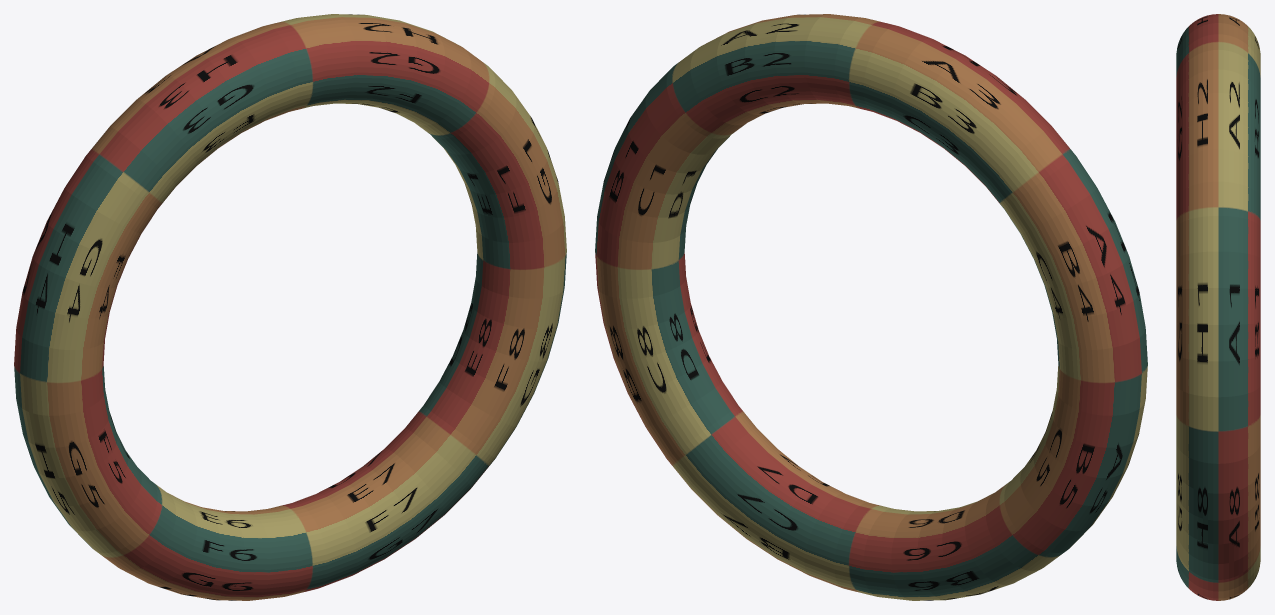
The model's file is texture_torus_R22_r8.glb.
The picture shows the model from 3 angles, left to right: view 1: azimuth 30°, elevation 25°; view 2: azimuth 150°, elevation 25°; view 3: azimuth 270°, elevation 25°; orthographic projection. The views are drawn at different scales.
Visible parts, largest first — view 1: world; view 2: world; view 3: world.
Boxes of the visible parts, x1=… form: world: x1=14, y1=14, x2=566, y2=600; world: x1=595, y1=14, x2=1147, y2=600; world: x1=1176, y1=14, x2=1260, y2=600.
Bounding box in the file's own units: 28.8 × 28.74 × 4.13.
1 material, 1 textured.
